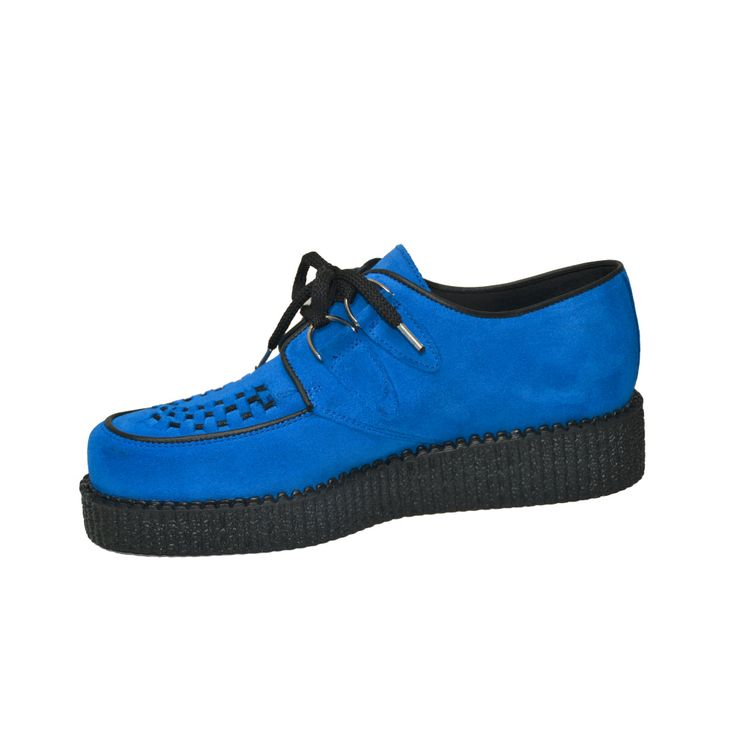gamuza: (86, 244, 640, 500)
